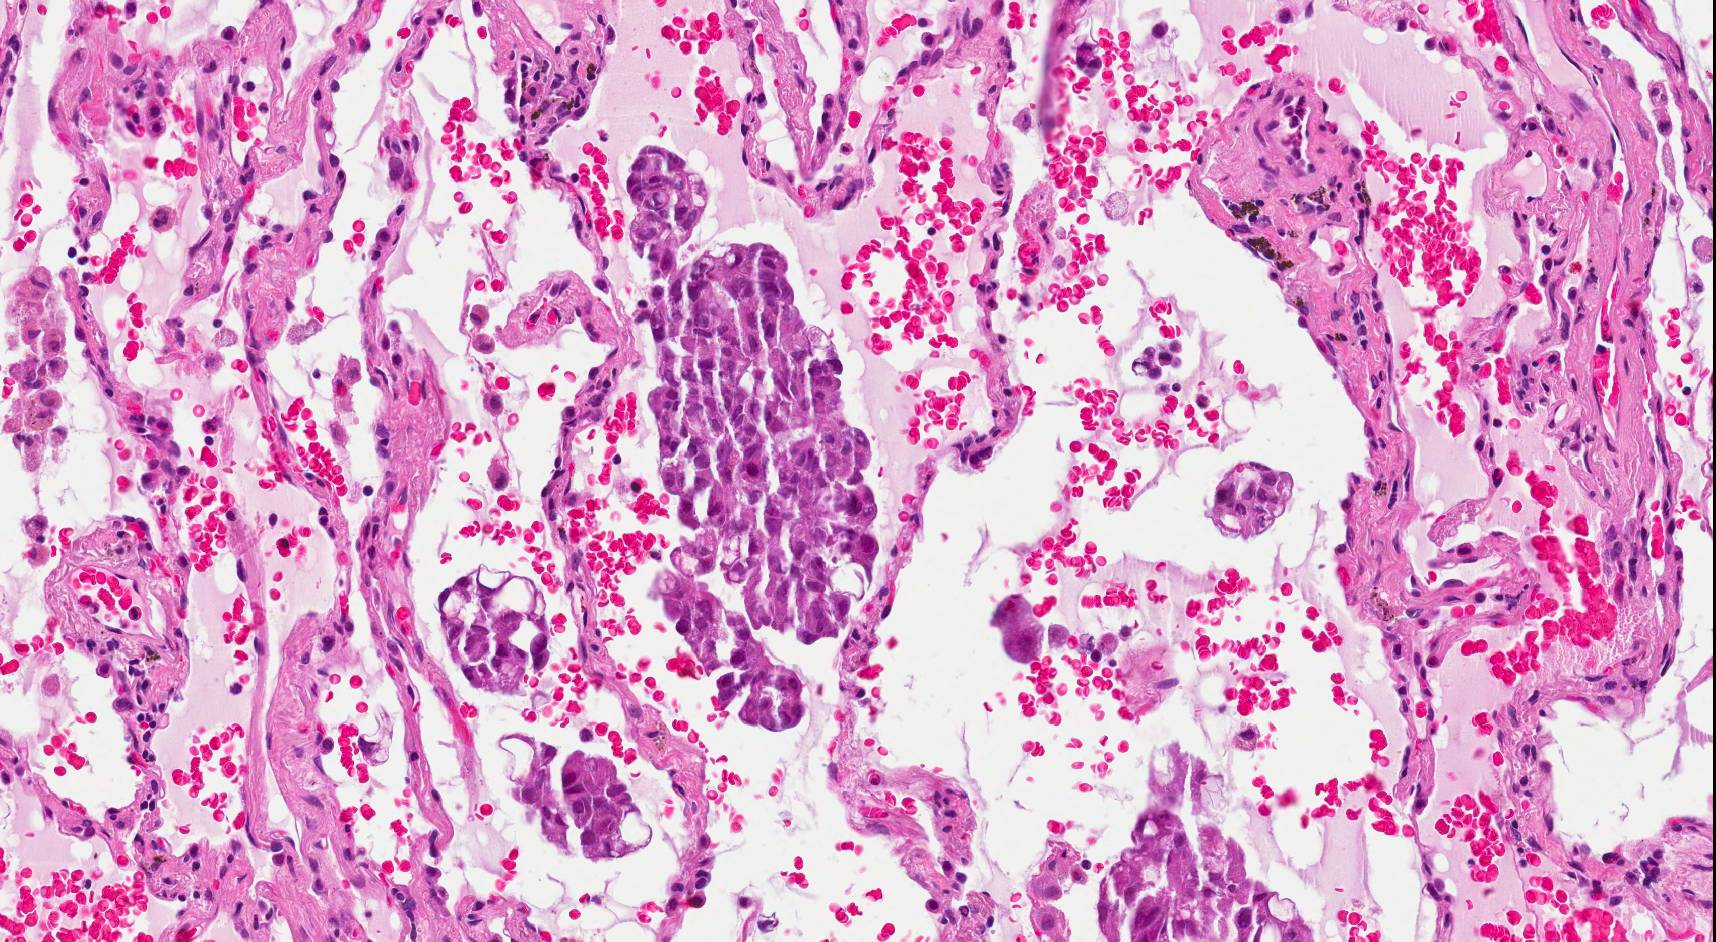stas: (619, 140, 880, 737), (498, 731, 665, 863), (433, 559, 556, 698), (1207, 445, 1297, 539)
